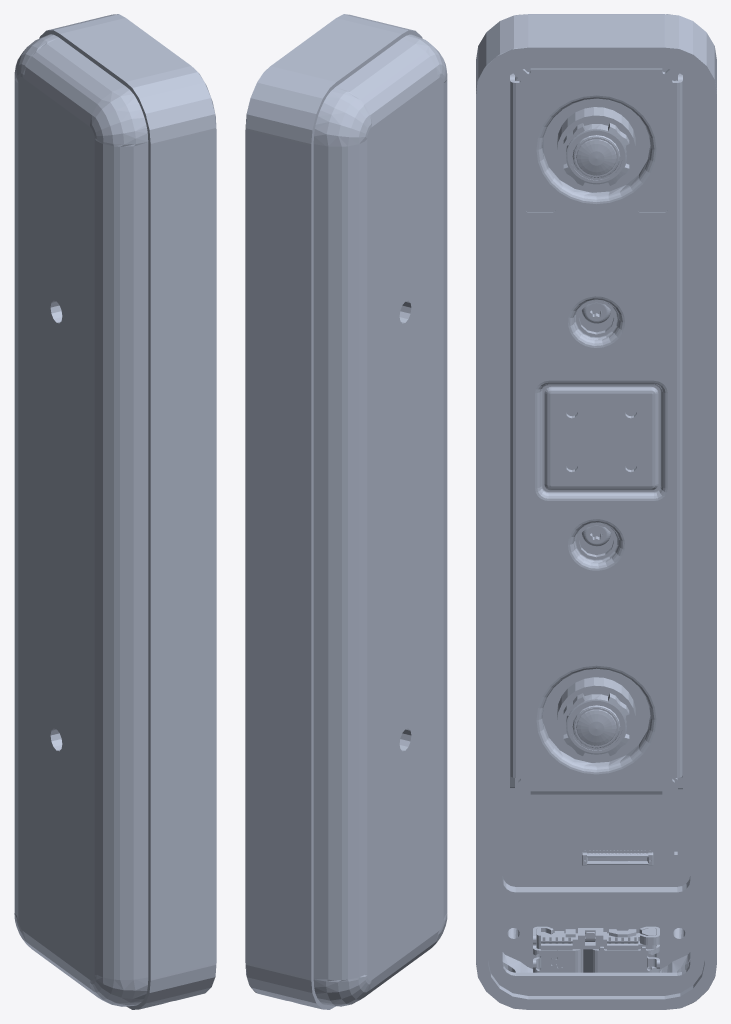
The model's file is t265_frame.dae.
3 views of the same model, side by side, from view 1: azimuth 30°, elevation 25°; view 2: azimuth 150°, elevation 25°; view 3: azimuth 270°, elevation 25° (orthographic). The views are drawn at different scales.
Visible parts, largest first — view 1: node0; view 2: node0; view 3: node0.
Boxes of the visible parts, x1,y1,x2,y2 form: node0: (14, 14, 216, 1009); node0: (245, 14, 447, 1009); node0: (476, 14, 716, 1009).
Size of the model in its own units: 0.0125 by 0.108 by 0.0245.
